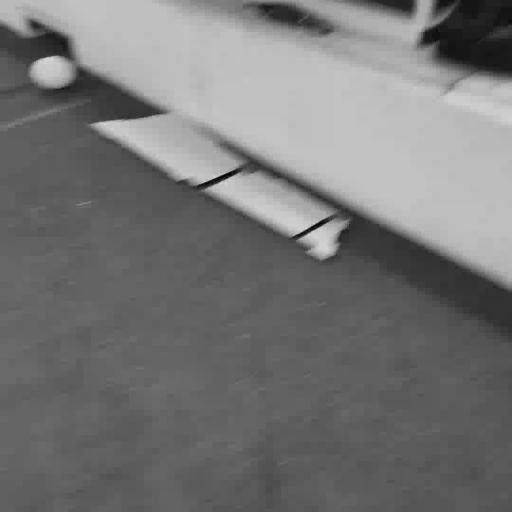fuel: (30, 56, 76, 89)
